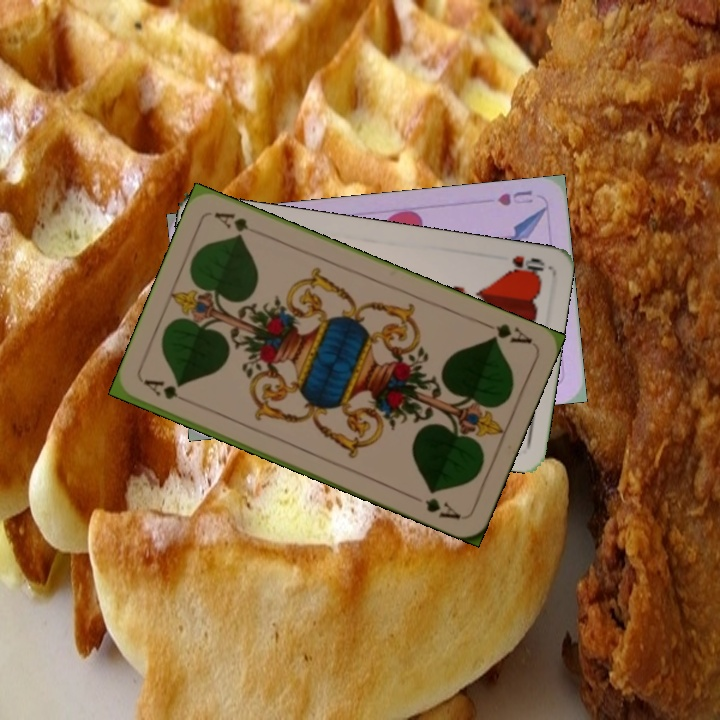GA: (139, 375, 196, 407), (478, 318, 535, 347)
HO: (504, 251, 547, 279)
HU: (493, 186, 536, 209)
